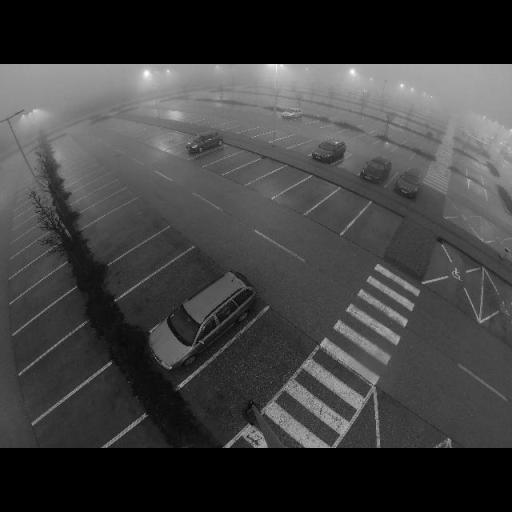busy: (254, 337, 382, 447), (150, 264, 262, 371), (309, 137, 347, 164), (359, 158, 391, 184), (186, 132, 225, 153), (396, 171, 424, 199), (282, 109, 304, 120)
free: (228, 347, 289, 386), (71, 398, 121, 432), (47, 351, 87, 379), (156, 274, 194, 300), (111, 218, 145, 242), (358, 218, 392, 240), (40, 312, 70, 332), (323, 200, 352, 219), (137, 247, 167, 265), (36, 282, 58, 300), (296, 186, 320, 202), (270, 174, 292, 189), (30, 262, 50, 277), (358, 132, 375, 145), (245, 165, 265, 176), (346, 158, 364, 170), (396, 149, 414, 161), (376, 140, 394, 151), (27, 246, 43, 258), (414, 157, 430, 169), (173, 132, 187, 145), (298, 144, 315, 154), (19, 219, 35, 229), (226, 158, 244, 166), (23, 233, 36, 244), (102, 200, 116, 210), (282, 138, 298, 146), (207, 151, 223, 159), (94, 193, 110, 201), (246, 131, 261, 138), (89, 182, 100, 190), (262, 136, 276, 142), (78, 176, 88, 184), (232, 124, 242, 130), (342, 130, 352, 136)
